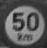Speed limit: (4, 4, 42, 40)
